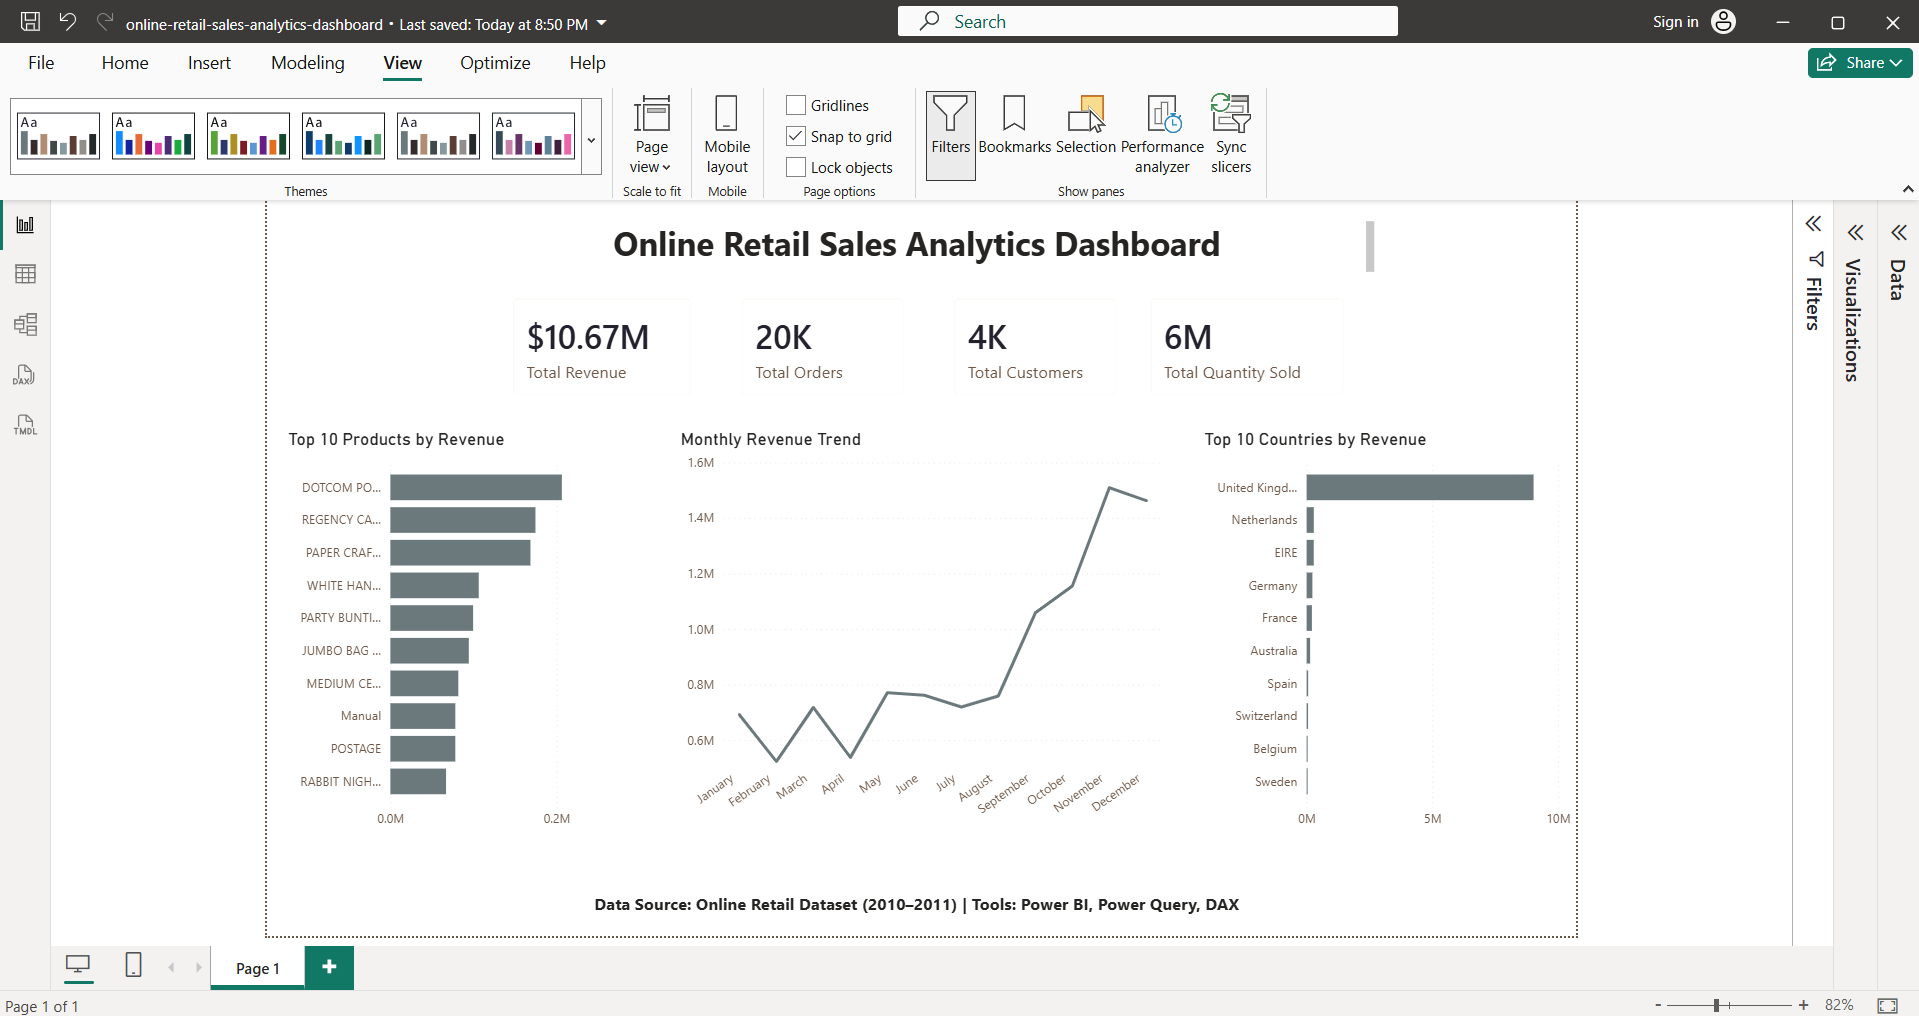

This screenshot's page, from the dashboard's own definition file:
{"tool":"powerbi","page":{"name":"Page 1","canvas":[1280,720],"ordinal":0},"visuals":[{"type":"cardVisual","fields":{"Data":["Online Retail.Total Revenue"]},"box":[224,80,208,128],"z":0},{"type":"cardVisual","fields":{"Data":["Online Retail.Total Quantity Sold"]},"box":[848,80,224,128],"z":1000},{"type":"cardVisual","fields":{"Data":["Online Retail.Total Orders"]},"box":[448,80,192,128],"z":2000},{"type":"cardVisual","fields":{"Data":["Online Retail.Total Customers"]},"box":[656,80,192,128],"z":3000},{"type":"clusteredBarChart","title":"Top 10 Products by Revenue","fields":{"Y":["Sum(Online Retail.Revenue)"],"Category":["Online Retail.Description"]},"box":[16,224,368,400],"z":4000},{"type":"clusteredBarChart","title":"Top 10 Countries by Revenue","fields":{"Y":["Sum(Online Retail.Revenue)"],"Category":["Online Retail.Country"]},"box":[912,224,368,400],"z":5000},{"type":"lineChart","title":"Monthly Revenue Trend","fields":{"Category":["Online Retail.InvoiceDate.Variation.Date Hierarchy.Year","Online Retail.InvoiceDate.Variation.Date Hierarchy.Month"],"Y":["Sum(Online Retail.Revenue)"]},"box":[400,224,480,400],"z":6000},{"type":"textbox","box":[192,16,896,64],"z":7000},{"type":"textbox","box":[64,672,1136,48],"z":8000}]}

Visuals, with their boxes on the page's 1280x720 design canvas (x1, y1, x2, y2). These are canvas units, not pixel positions in the 1919x1016 screenshot, which may show the page scaled, cropped or inside an application window:
cardVisual - Online Retail.Total Revenue: <bbox>224, 80, 432, 208</bbox>
cardVisual - Online Retail.Total Quantity Sold: <bbox>848, 80, 1072, 208</bbox>
cardVisual - Online Retail.Total Orders: <bbox>448, 80, 640, 208</bbox>
cardVisual - Online Retail.Total Customers: <bbox>656, 80, 848, 208</bbox>
"Top 10 Products by Revenue" clusteredBarChart: <bbox>16, 224, 384, 624</bbox>
"Top 10 Countries by Revenue" clusteredBarChart: <bbox>912, 224, 1280, 624</bbox>
"Monthly Revenue Trend" lineChart: <bbox>400, 224, 880, 624</bbox>
textbox: <bbox>192, 16, 1088, 80</bbox>
textbox: <bbox>64, 672, 1200, 720</bbox>
